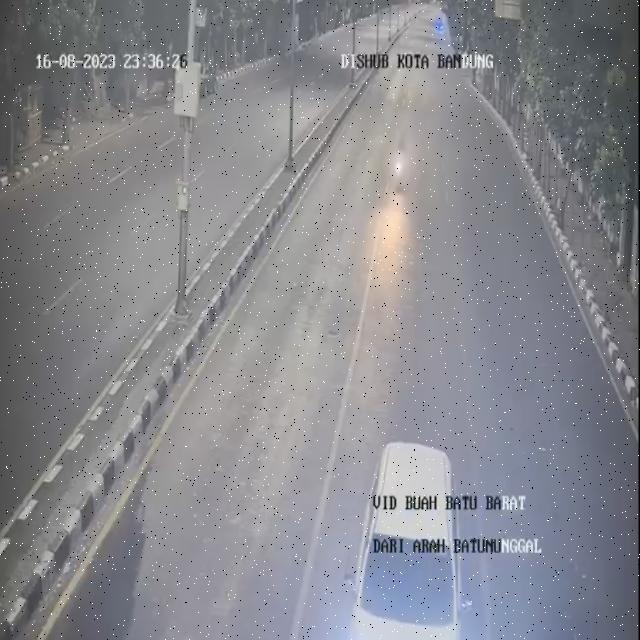motorcycle: (353, 426, 464, 640), (391, 131, 414, 201)
